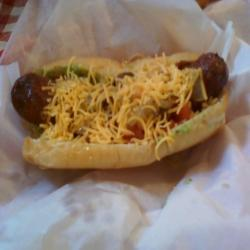hotdog: (7, 45, 239, 170)
